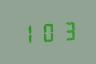one: (18, 22, 36, 44)
three: (57, 19, 75, 42)
zero: (38, 20, 56, 43)
